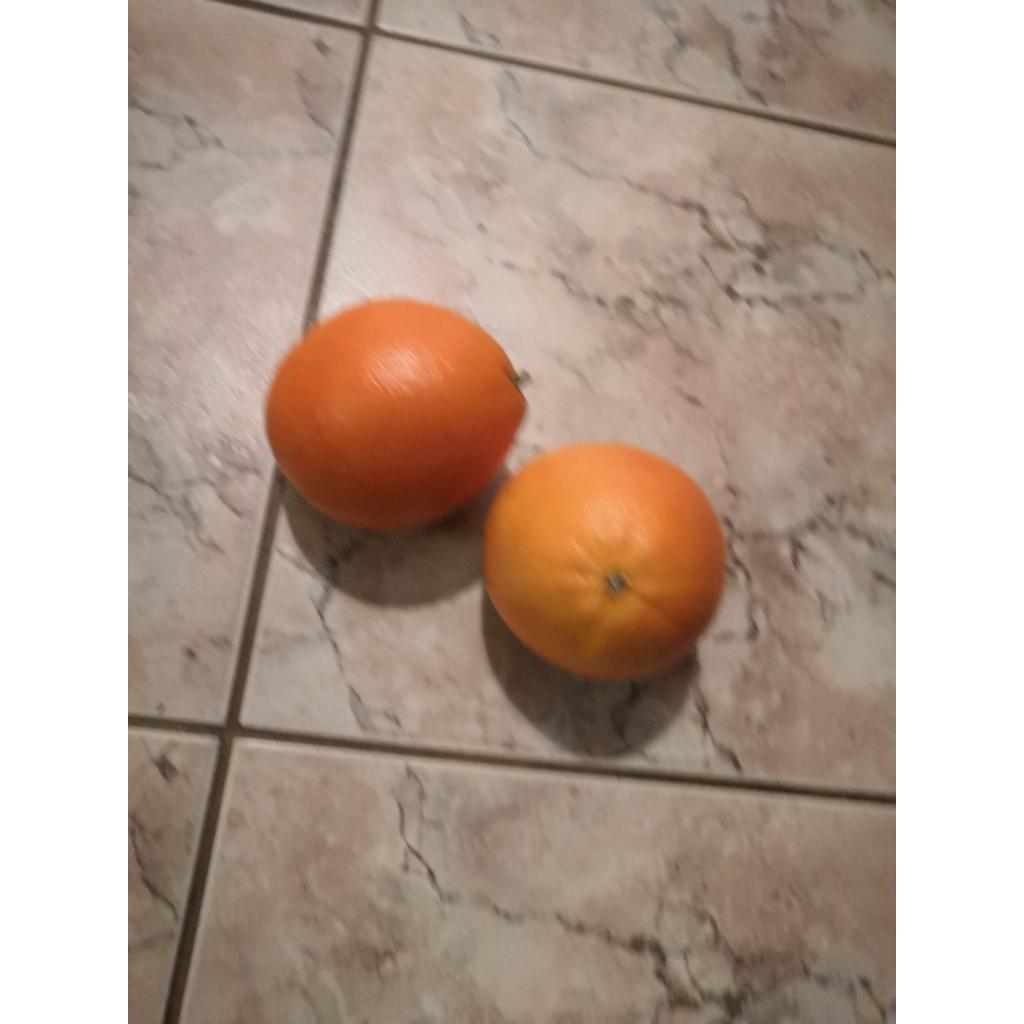orange: (266, 300, 526, 530), (484, 442, 726, 680)
